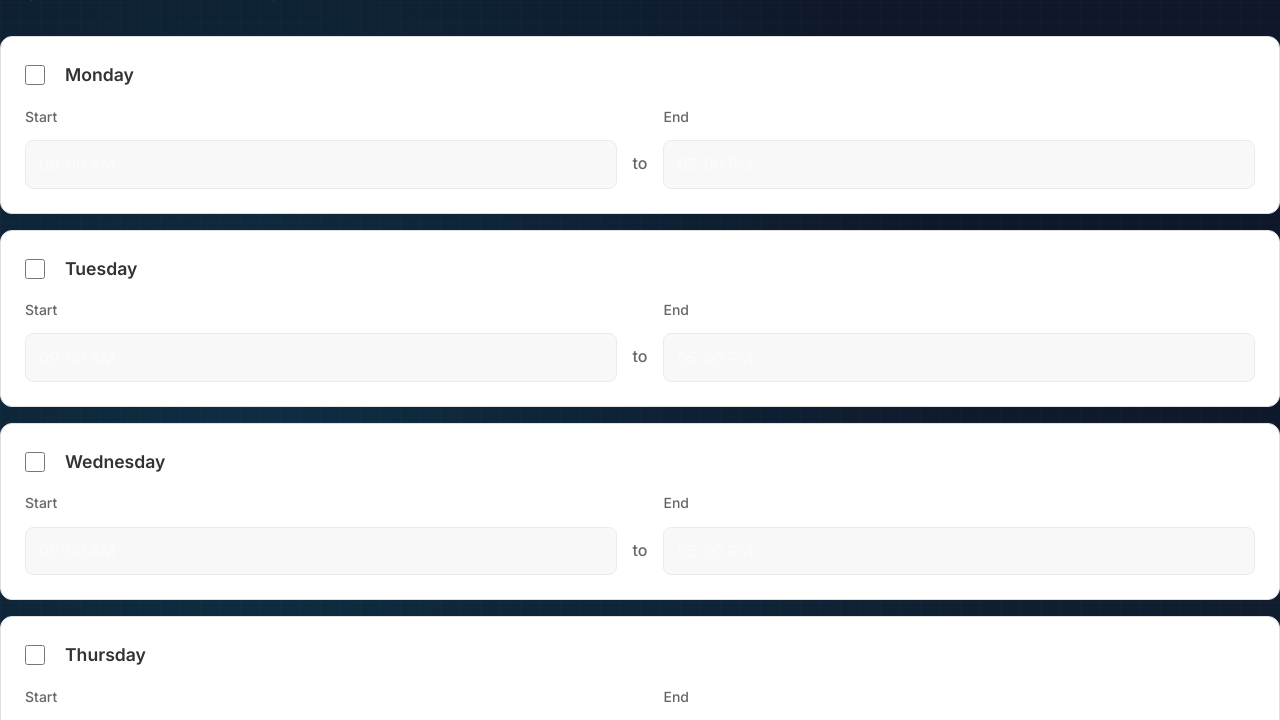
Scenario: AvailabilityScheduler Component - TDD › Error Handling › should handle save error gracefully
Click the checkbox labelled "Monday": (35, 76) [25,66,45,86]
(page scrolled)
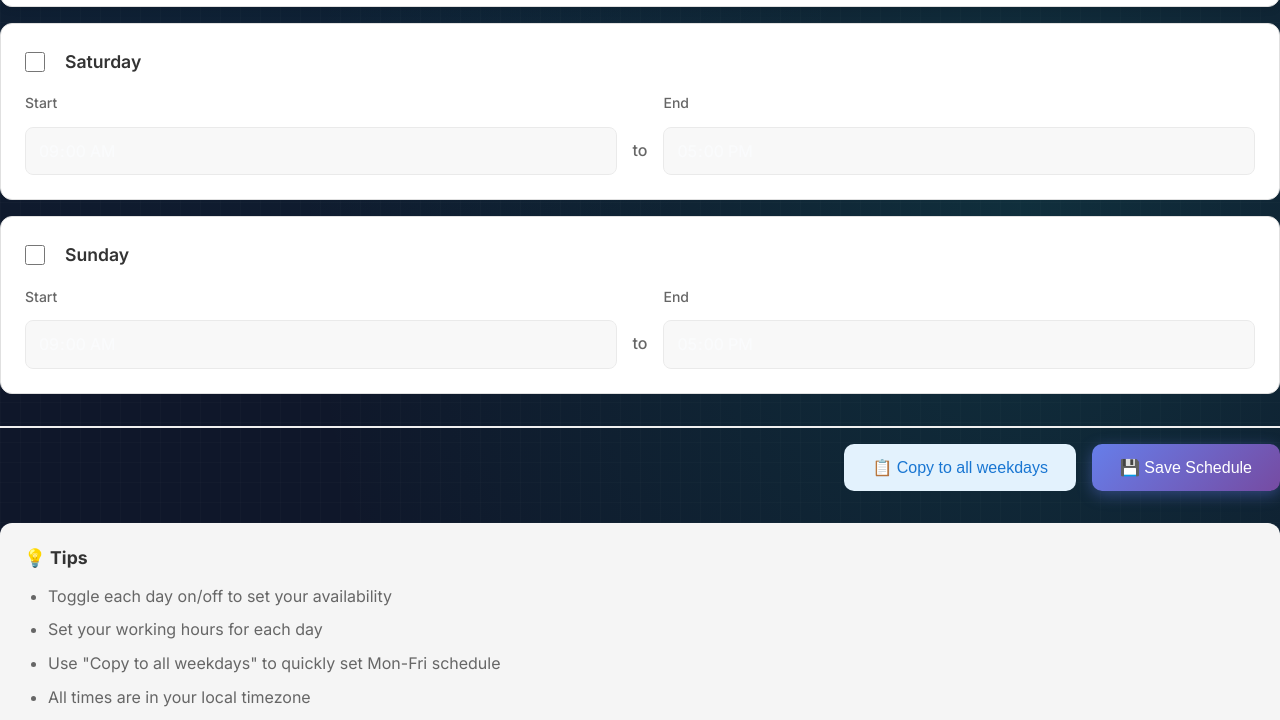
Click the button with test id "save-schedule-button": (1186, 467) [1092,444,1279,491]
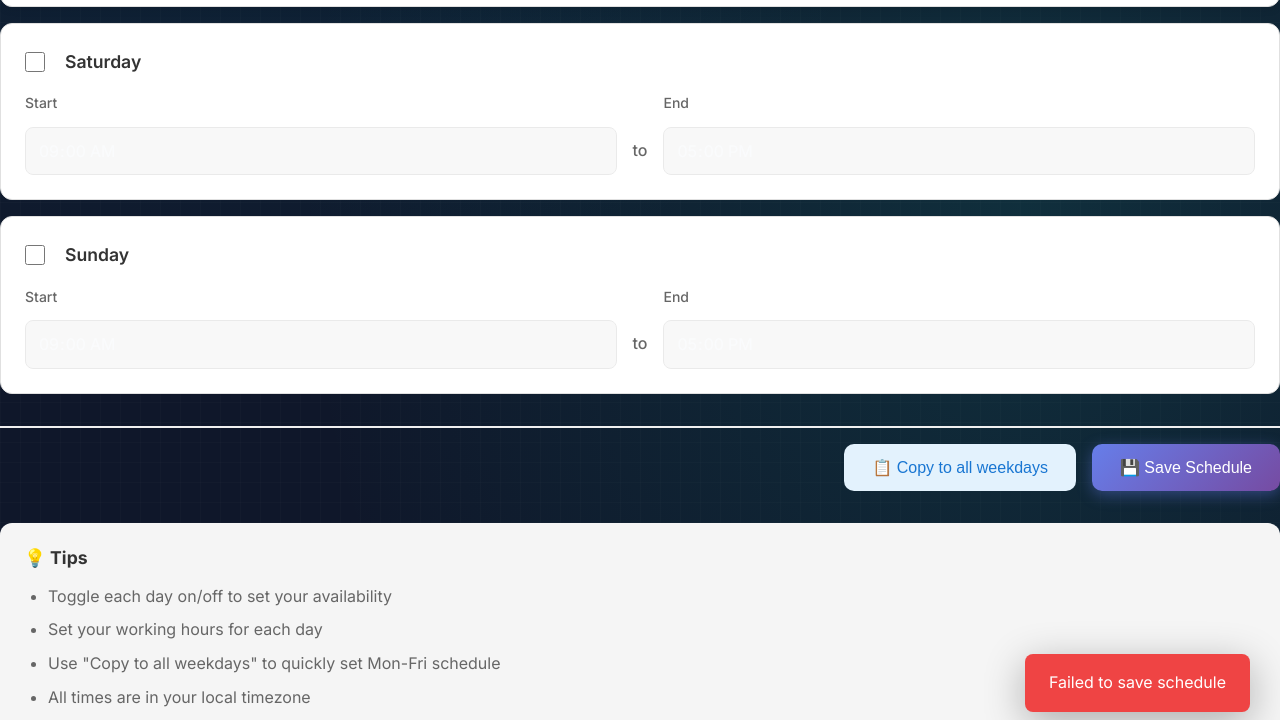
Check: the text "Failed to save schedule" is shown, box [1025,654,1250,712]
